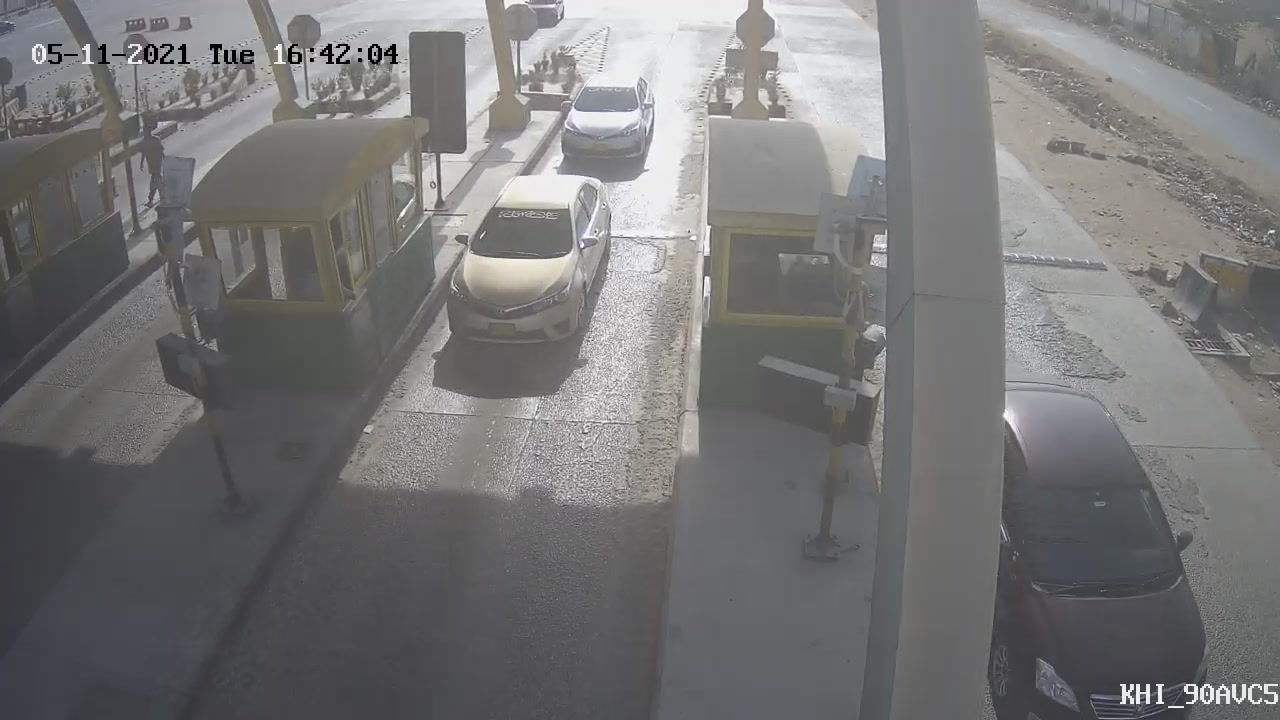F1: (430, 164, 631, 372), (546, 61, 672, 181)
